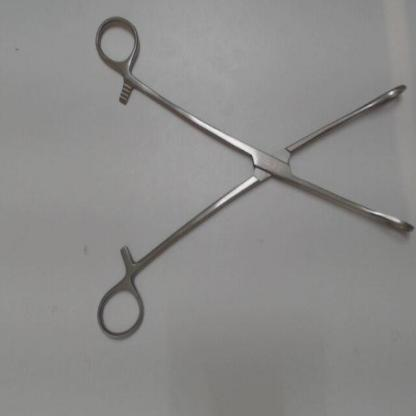Sponge Forceps: (90, 8, 413, 346)
